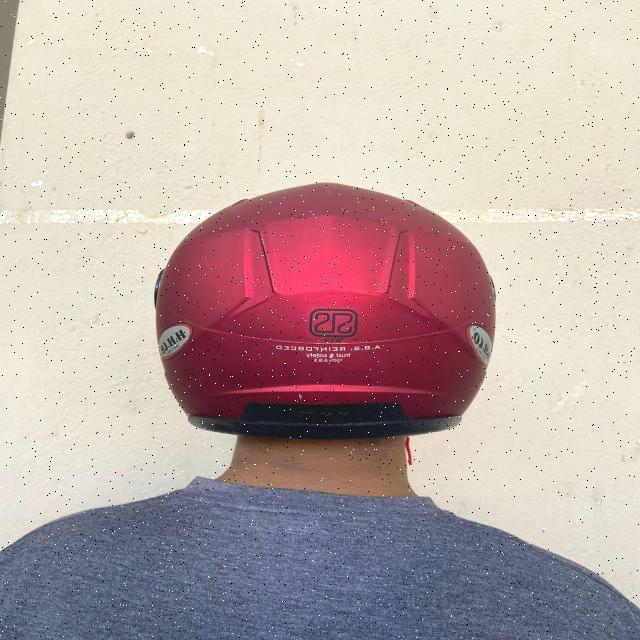helmet: (156, 184, 498, 442)
